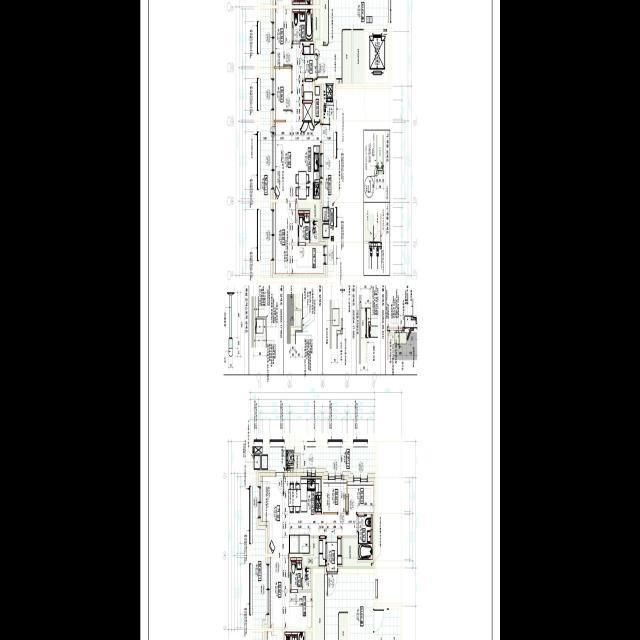background: (140, 0, 500, 640)
space_balconi: (252, 447, 294, 628), (260, 9, 271, 277), (294, 447, 375, 476), (322, 84, 333, 277)
space_bedroom: (274, 203, 297, 278), (269, 557, 289, 628), (273, 9, 291, 67), (347, 482, 375, 513), (274, 69, 291, 120), (323, 480, 346, 512)
space_dressroom: (297, 246, 323, 278), (289, 592, 312, 628)
space_elevator: (366, 35, 388, 84)
space_elevator_hall: (318, 0, 388, 78), (325, 574, 373, 640)
space_front: (326, 536, 342, 571), (302, 44, 315, 79)
space_kitchen: (303, 103, 320, 200), (284, 476, 322, 515)
space_living_room: (258, 472, 357, 554), (274, 44, 303, 200)
space_other: (343, 538, 375, 569), (315, 574, 324, 640), (353, 30, 363, 83), (342, 30, 351, 83), (303, 538, 318, 566), (298, 199, 319, 219), (314, 84, 322, 122), (322, 0, 328, 45), (338, 613, 348, 640), (313, 9, 319, 41), (318, 539, 325, 566), (303, 81, 312, 101), (295, 455, 299, 468), (336, 79, 341, 83)
space_staircase: (375, 609, 400, 640)
space_toilet: (290, 557, 310, 590), (292, 9, 312, 42), (298, 210, 318, 243), (358, 514, 372, 560)
